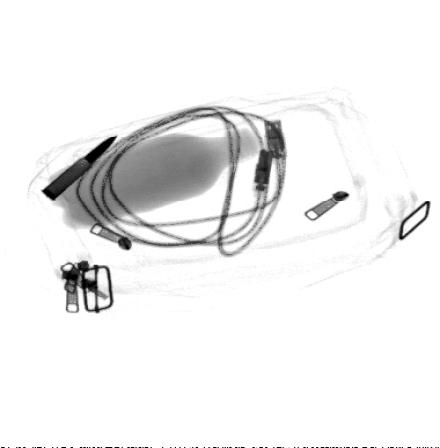Bullet: (40, 133, 119, 203)
